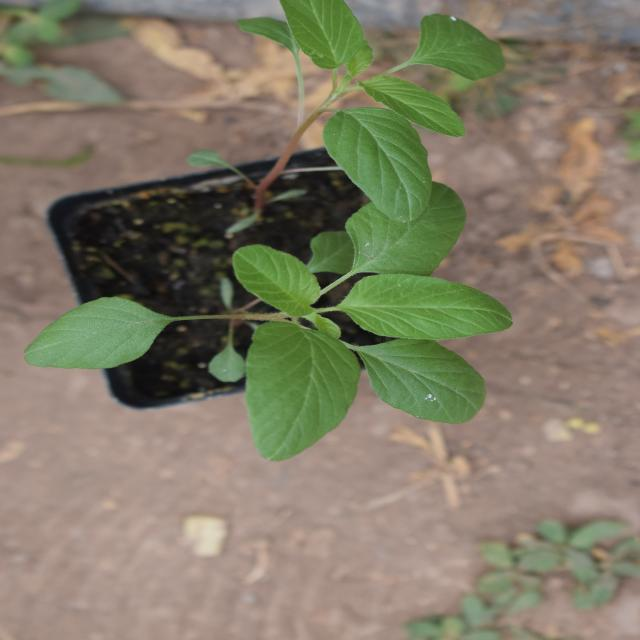pigweed: (158, 51, 458, 489)
